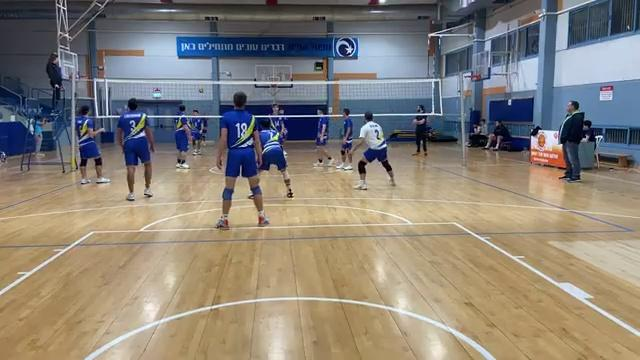ball: (197, 88, 205, 93)
